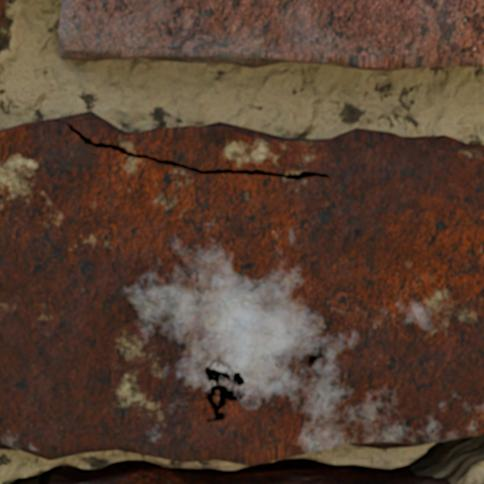brick: (0, 112, 483, 464), (59, 0, 483, 70), (0, 0, 3, 28)
crack: (0, 433, 483, 483), (51, 119, 331, 180)
